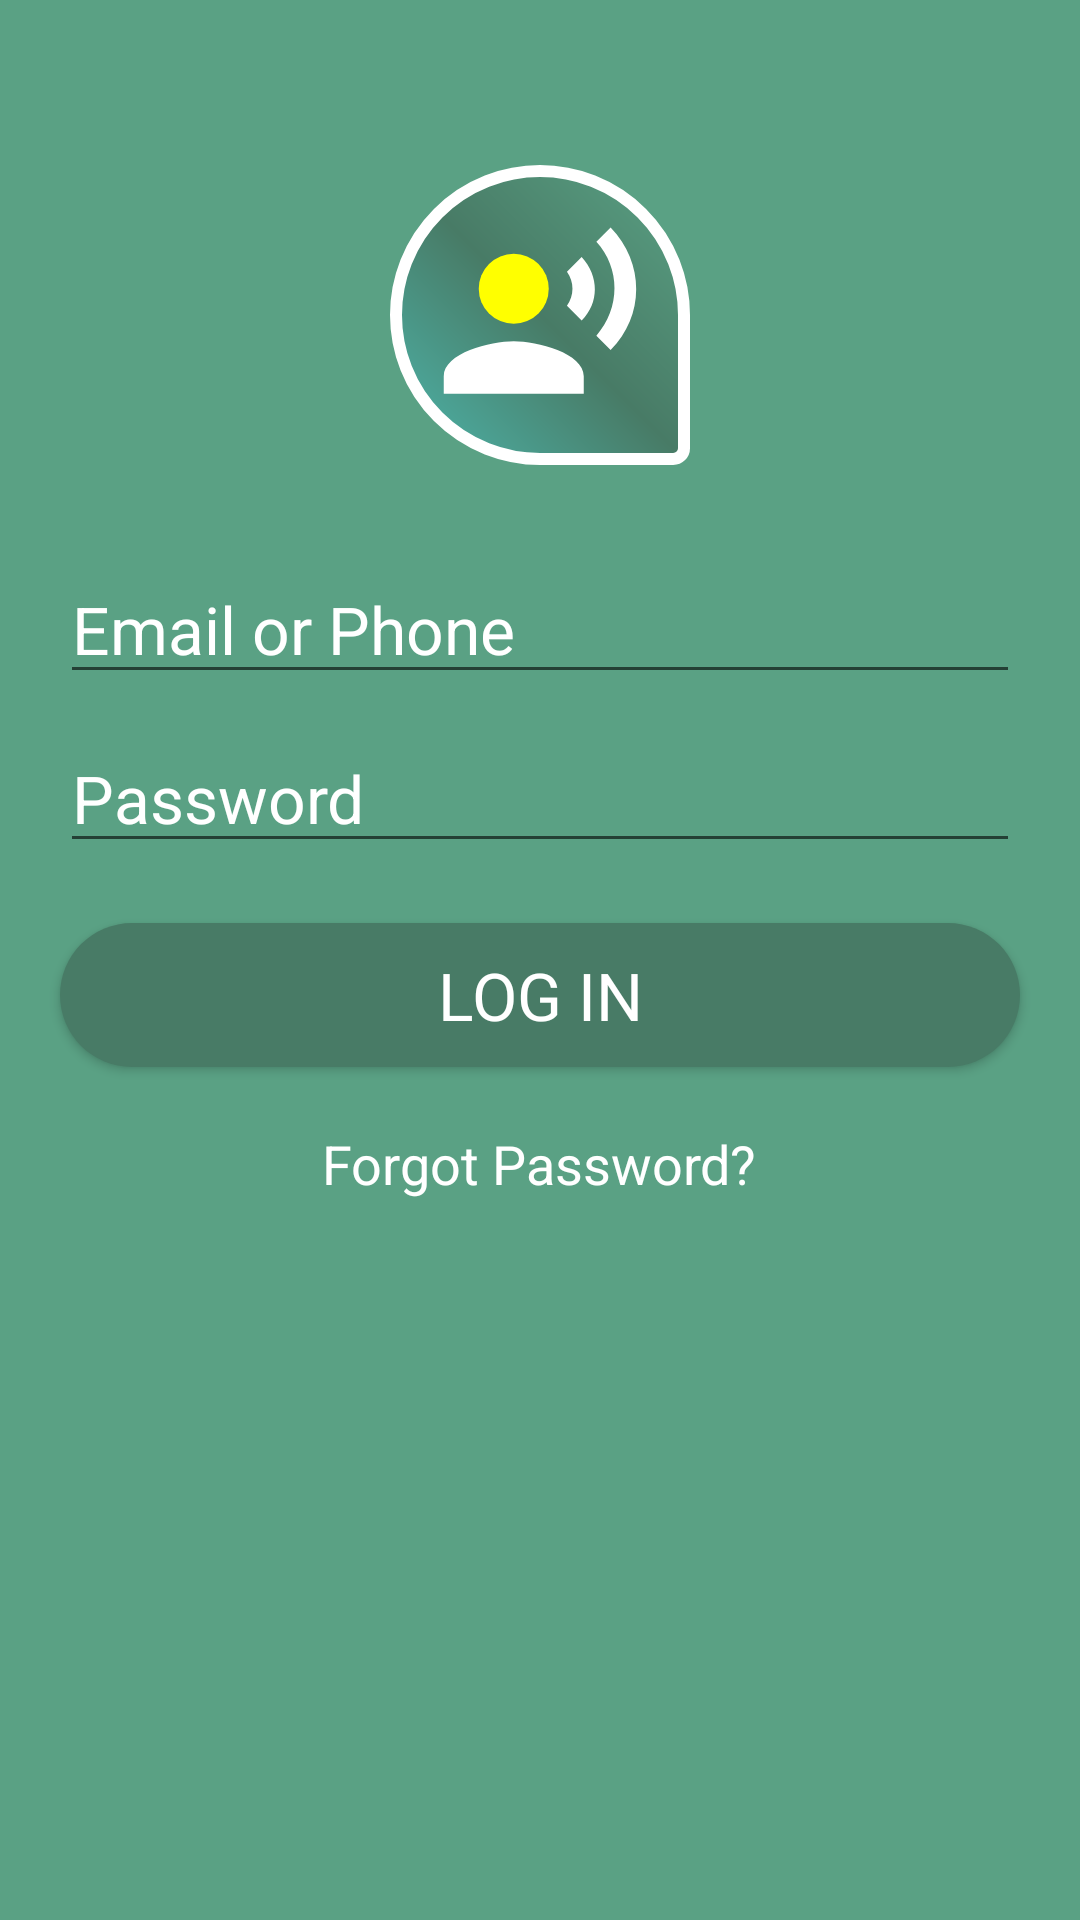

Where to tap for icons on this 1080px×1920px app screen, as (x=x, y=y):
iconchat: (x=540, y=315)
